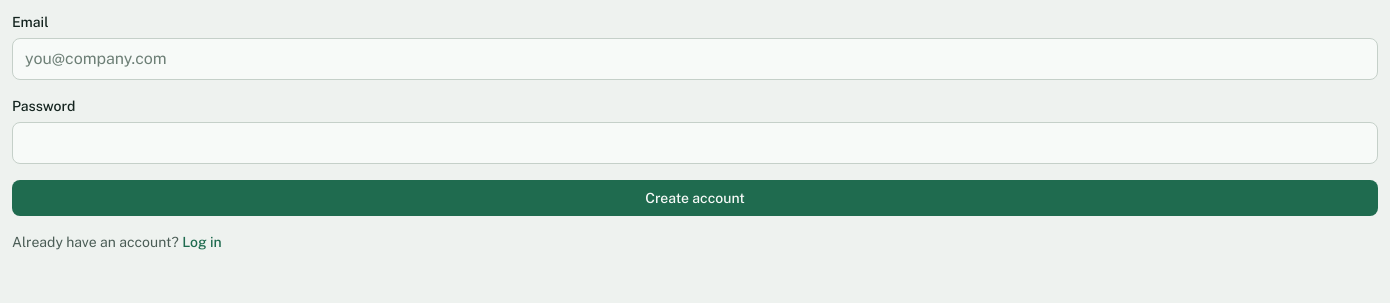
Scenario: SignupForm › surfaces validation errors from the action
Type "user@example.com" into the field labelled "Email".
click(695, 59); type("user@example.com")  # box [12,38,1378,80]
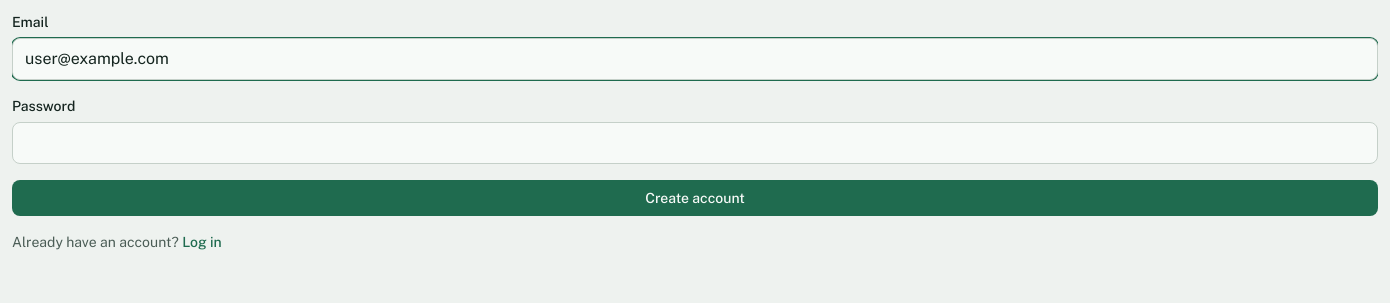
Type "hunter2hunter2" into the password field labelled "Password".
click(695, 143); type("hunter2hunter2")  # box [12,122,1378,164]
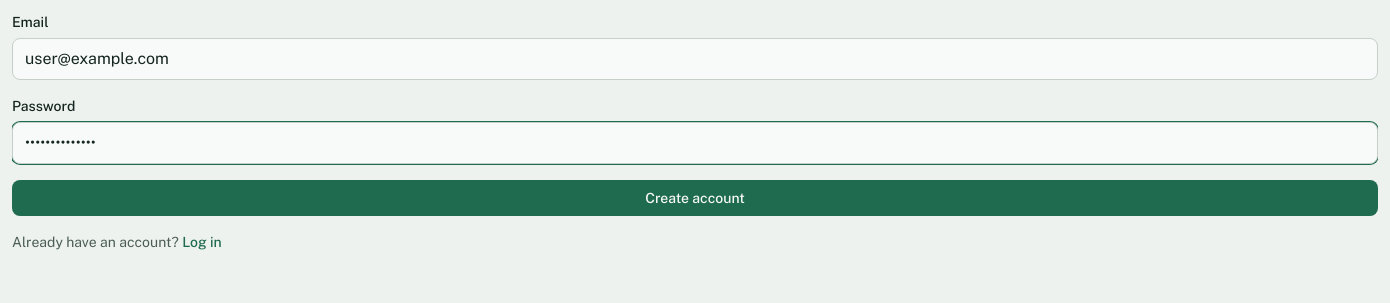
Click the button "Create account".
click(695, 198)  # box [12,180,1378,216]
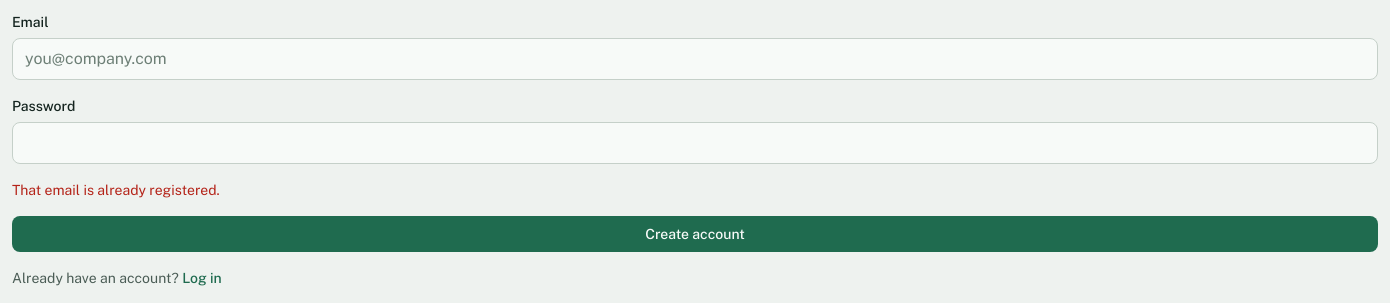
Result: the message reads "That email is already registered." at [12,182,220,198]
